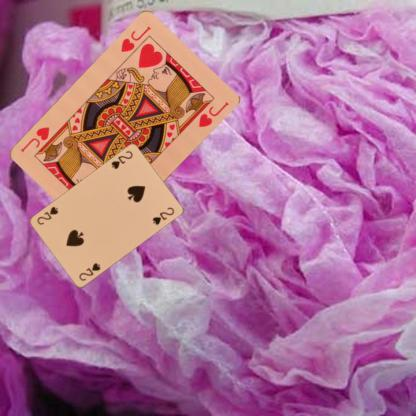2s: (109, 148, 134, 171), (76, 260, 102, 282)
Jh: (118, 24, 152, 53)
